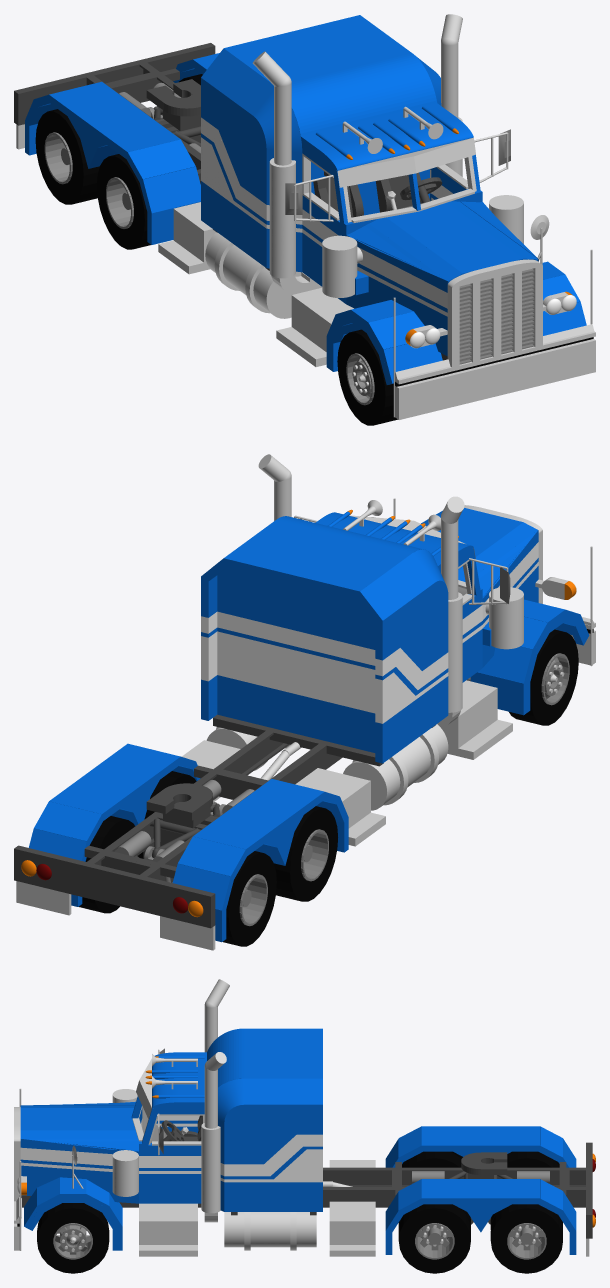
Rendered from autotruck.glb.
3 renders of one model, top to bottom at view 1: azimuth 30°, elevation 25°; view 2: azimuth 150°, elevation 25°; view 3: azimuth 270°, elevation 25°, orthographic. The views are drawn at different scales.
Visible parts, largest first — view 1: box (×36), cylinder (×7), quarterCylinder (×2), annulus (×9), wedge (×7), truncatedCone, cornerPyramid4, halfCylinder; view 2: box (×42), cylinder (×6), annulus (×6), wedge (×2), quarterCylinder (×2), truncatedCone; view 3: box (×35), annulus (×13), cylinder (×5), wedge (×8), quarterCylinder (×2), truncatedCone, cornerPyramid4.
Part boxes in pixels (box(x1,y1,x2,y2)): box (×36): box(14, 15, 595, 419); cylinder (×7): box(205, 43, 523, 318); quarterCylinder (×2): box(291, 53, 473, 170); annulus (×9): box(35, 109, 397, 425); wedge (×7): box(210, 55, 475, 356); truncatedCone: box(240, 90, 302, 159); cornerPyramid4: box(357, 223, 447, 288); halfCylinder: box(164, 94, 200, 116); box (×42): box(14, 508, 565, 950); cylinder (×6): box(206, 477, 523, 810); annulus (×6): box(87, 629, 578, 946); wedge (×2): box(369, 553, 538, 667); quarterCylinder (×2): box(276, 512, 473, 558); truncatedCone: box(413, 549, 448, 624); box (×35): box(20, 1028, 592, 1256); annulus (×13): box(37, 1151, 562, 1273); cylinder (×5): box(112, 1006, 316, 1247); wedge (×8): box(20, 1078, 309, 1203); quarterCylinder (×2): box(152, 1028, 244, 1108); truncatedCone: box(218, 1078, 244, 1122); cornerPyramid4: box(20, 1138, 138, 1151).
Bounding box in the file's own units: 29.64 × 37.54 × 88.5.
